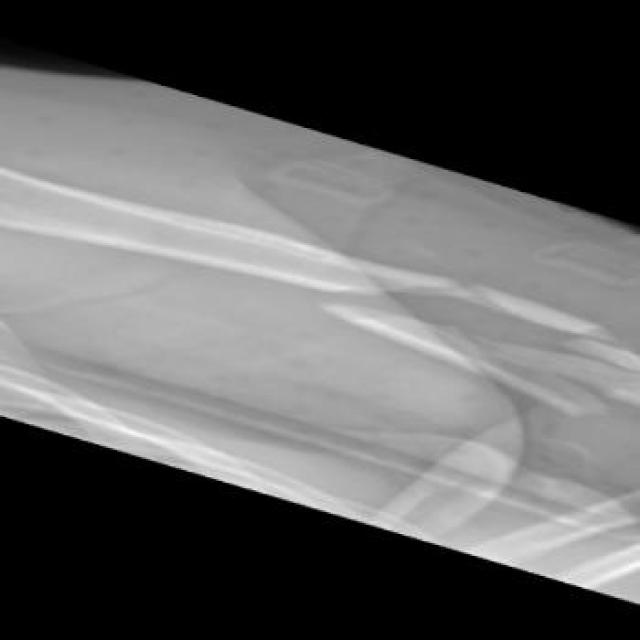Fracture: (320, 265, 640, 413)
